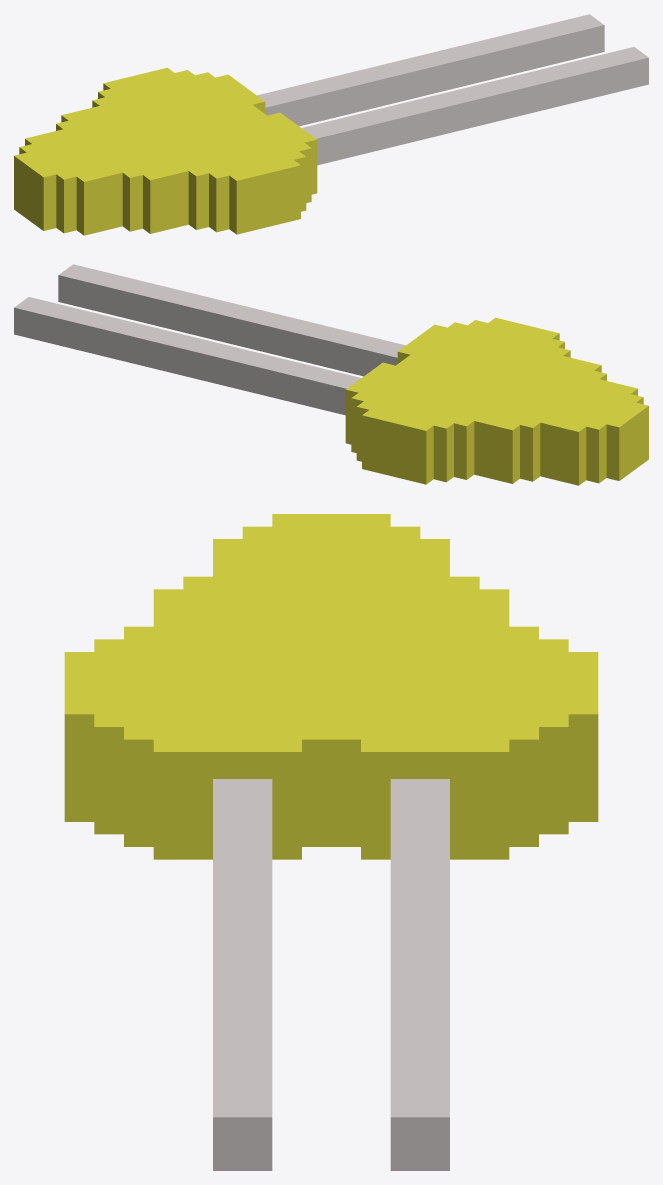
The model's file is tank0001-0.obj.
3 renders of one model, top to bottom at view 1: azimuth 30°, elevation 25°; view 2: azimuth 150°, elevation 25°; view 3: azimuth 270°, elevation 25°, orthographic. The views are drawn at different scales.
Size of the model in its own units: 4.6 by 0.4 by 1.8.
Materials: 1 (1 with a texture image).
